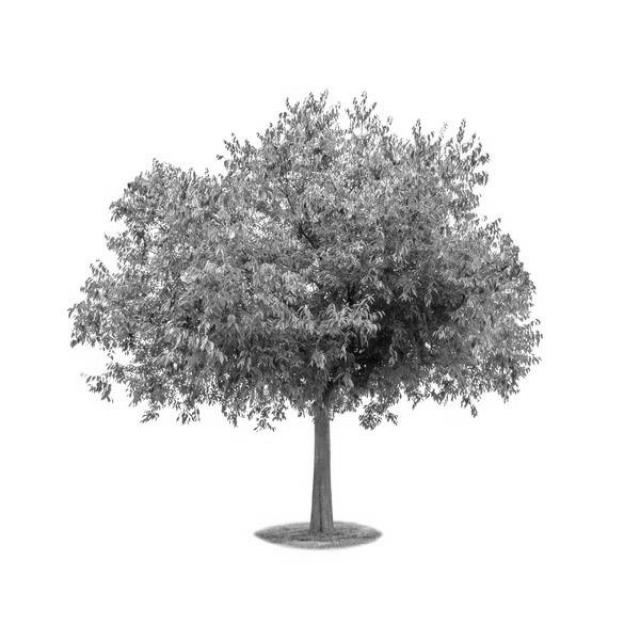Tree: (71, 94, 541, 536)
